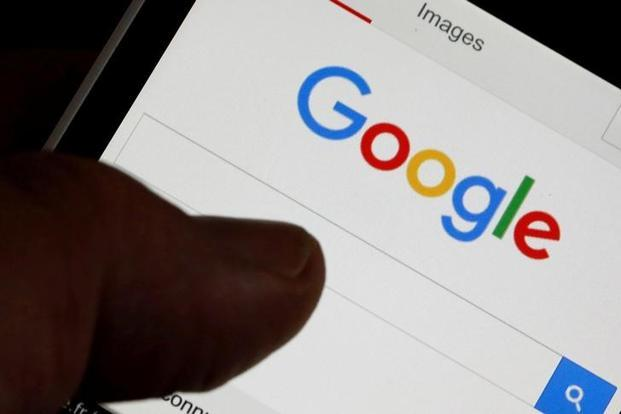google: (296, 54, 587, 258)
